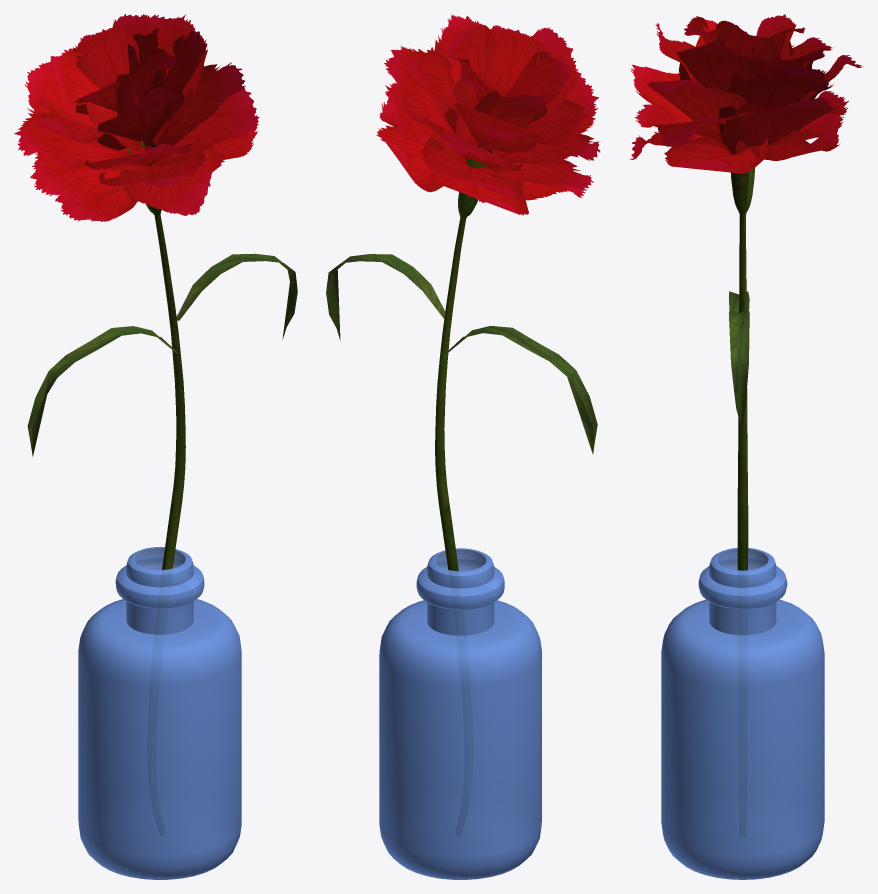
The model's file is carnation.gltf.
3 renders of one model, left to right at view 1: azimuth 30°, elevation 25°; view 2: azimuth 150°, elevation 25°; view 3: azimuth 270°, elevation 25°, orthographic.
Visible parts, largest first — view 1: Cylinder.026_3, BezierCurve.049_0, BezierCurve.134_12, BezierCurve.129_7, BezierCurve.128_9, BezierCurve.053_27, BezierCurve.145_23, BezierCurve.050_24, BezierCurve.137_15, Plane.162_2, BezierCurve.136_14, BezierCurve.144_22 (+13 smaller); view 2: Cylinder.026_3, BezierCurve.049_0, BezierCurve.133_11, BezierCurve.142_20, Plane.162_2, BezierCurve.143_21, BezierCurve.139_17, BezierCurve.138_16, BezierCurve.140_18, BezierCurve.141_19, BezierCurve.051_25, Plane.161_1 (+12 smaller); view 3: Cylinder.026_3, BezierCurve.049_0, BezierCurve.052_26, BezierCurve.133_11, BezierCurve.136_14, BezierCurve.134_12, BezierCurve.127_6, Plane.161_1, BezierCurve.135_13, BezierCurve.126_5, BezierCurve.141_19, BezierCurve.053_27 (+11 smaller).
Boxes of the visible parts, box(x1,y1,x2,y2) form: Cylinder.026_3: box(78, 547, 241, 879); BezierCurve.049_0: box(127, 141, 185, 569); BezierCurve.134_12: box(149, 62, 245, 167); BezierCurve.129_7: box(119, 147, 226, 215); BezierCurve.128_9: box(14, 113, 146, 171); BezierCurve.053_27: box(157, 87, 259, 166); BezierCurve.145_23: box(73, 27, 139, 89); BezierCurve.050_24: box(30, 152, 137, 202); BezierCurve.137_15: box(97, 86, 184, 150); Plane.162_2: box(27, 326, 177, 456); BezierCurve.136_14: box(142, 30, 207, 146); BezierCurve.144_22: box(52, 52, 117, 127); Cylinder.026_3: box(379, 548, 541, 879); BezierCurve.049_0: box(435, 144, 492, 571); BezierCurve.133_11: box(384, 46, 467, 165); BezierCurve.142_20: box(483, 25, 542, 96); Plane.162_2: box(448, 326, 597, 453); BezierCurve.143_21: box(499, 51, 570, 128); BezierCurve.139_17: box(444, 103, 539, 153); BezierCurve.138_16: box(480, 99, 595, 150); BezierCurve.140_18: box(405, 50, 478, 145); BezierCurve.141_19: box(446, 24, 496, 109); BezierCurve.051_25: box(421, 137, 523, 200); Plane.161_1: box(326, 254, 445, 340); Cylinder.026_3: box(661, 548, 824, 879); BezierCurve.049_0: box(731, 168, 754, 570); BezierCurve.052_26: box(723, 96, 835, 154); BezierCurve.133_11: box(718, 65, 833, 145); BezierCurve.136_14: box(675, 39, 764, 107); BezierCurve.134_12: box(647, 78, 746, 121); BezierCurve.127_6: box(664, 138, 768, 173); Plane.161_1: box(728, 310, 749, 428); BezierCurve.135_13: box(630, 64, 703, 137); BezierCurve.126_5: box(735, 123, 840, 161); BezierCurve.141_19: box(708, 20, 781, 60); BezierCurve.053_27: box(655, 112, 767, 151).
Bounding box in the file's own units: 34.41 × 101 × 26.03.
Materials: 4 (3 with a texture image).
